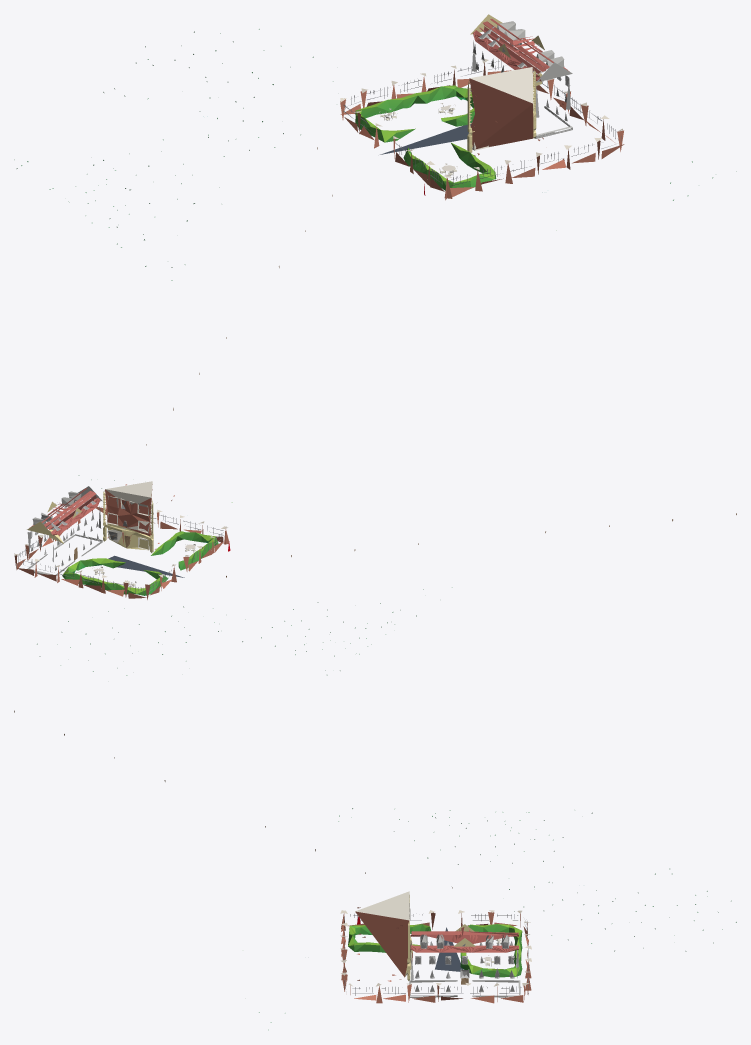
The model's file is chunk_2_2_lod2.glb.
3 views of the same model, one above another, from view 1: azimuth 30°, elevation 25°; view 2: azimuth 150°, elevation 25°; view 3: azimuth 270°, elevation 25° (orthographic). The views are drawn at different scales.
Parts seen in each view (by area): view 1: Batched_Chunk_2_2.001; view 2: Batched_Chunk_2_2.001; view 3: Batched_Chunk_2_2.001.
Boxes of the visible parts, x1,y1,x2,y2 form: Batched_Chunk_2_2.001: [14, 14, 736, 445]; Batched_Chunk_2_2.001: [14, 475, 736, 675]; Batched_Chunk_2_2.001: [14, 710, 736, 1030].
Size of the model in its own units: 110 by 10.94 by 111.
21 materials, 1 textured.
